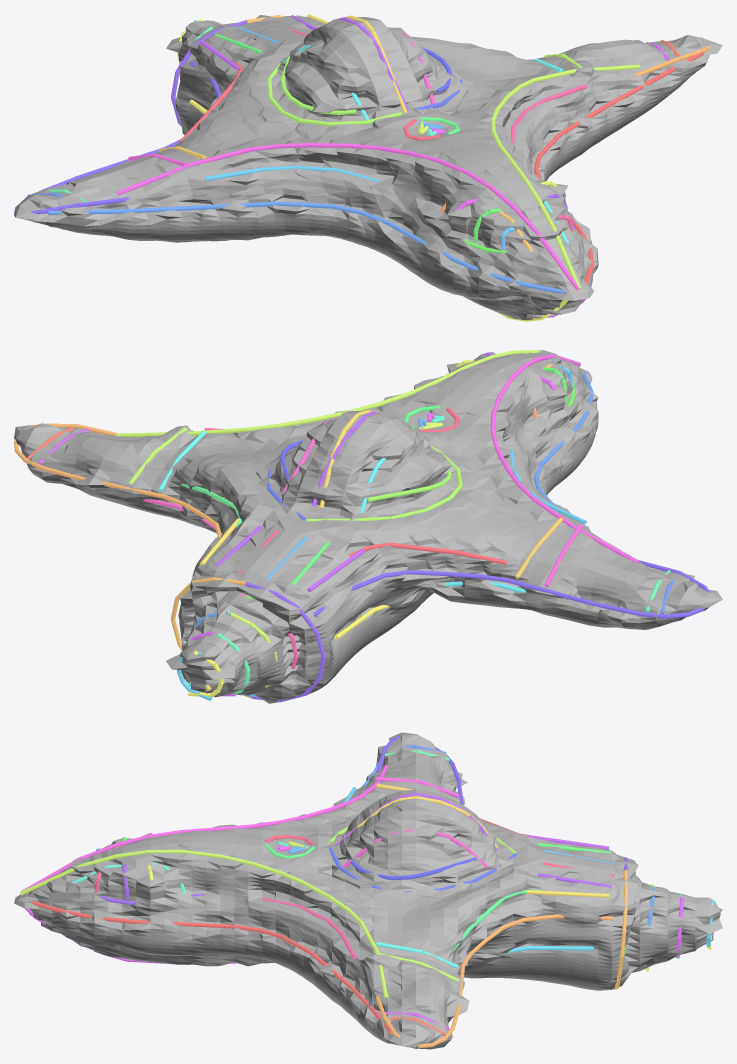
The model's file is author1_ship.gltf.
3 renders of one model, top to bottom at view 1: azimuth 30°, elevation 25°; view 2: azimuth 150°, elevation 25°; view 3: azimuth 270°, elevation 25°, orthographic. The views are drawn at different scales.
Size of the model in its own units: 0.7276 by 0.2011 by 0.6944.
